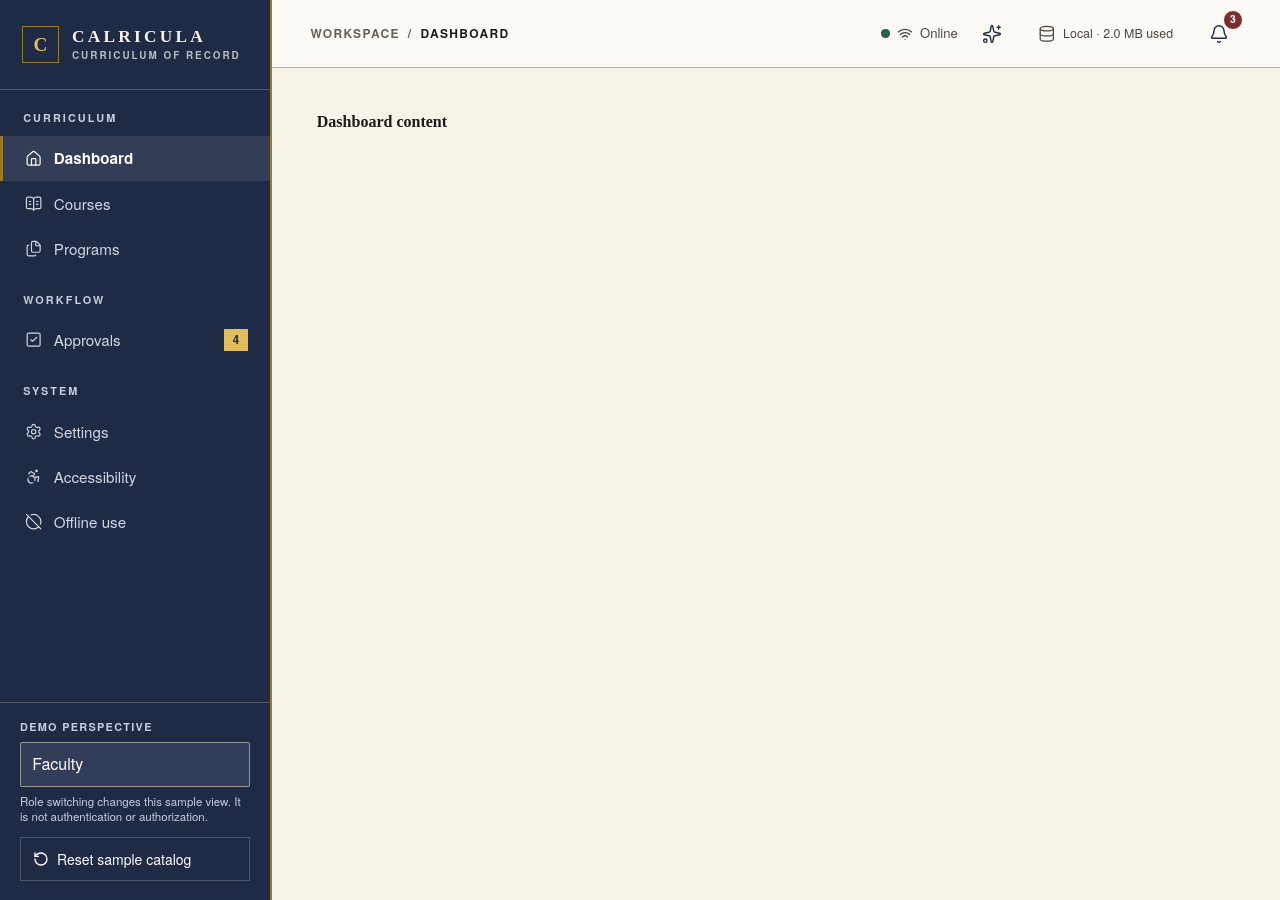
Test case: AppShell › keeps reset errors inside the active confirmation
Click the button "Reset sample catalog": [135, 859] box 20,837 -> 250,881
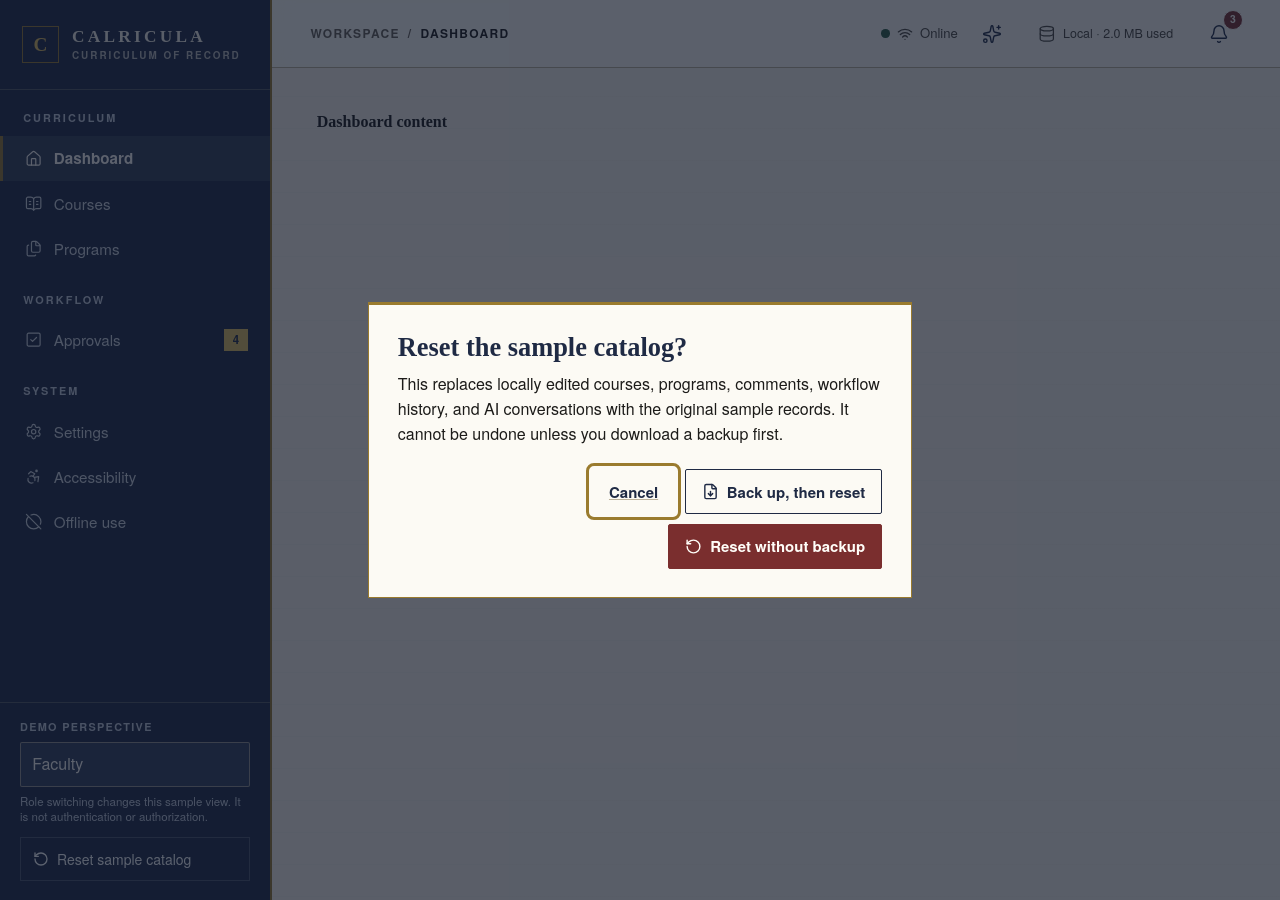
Click the button "Reset without backup": [775, 546] box 668,524 -> 882,569
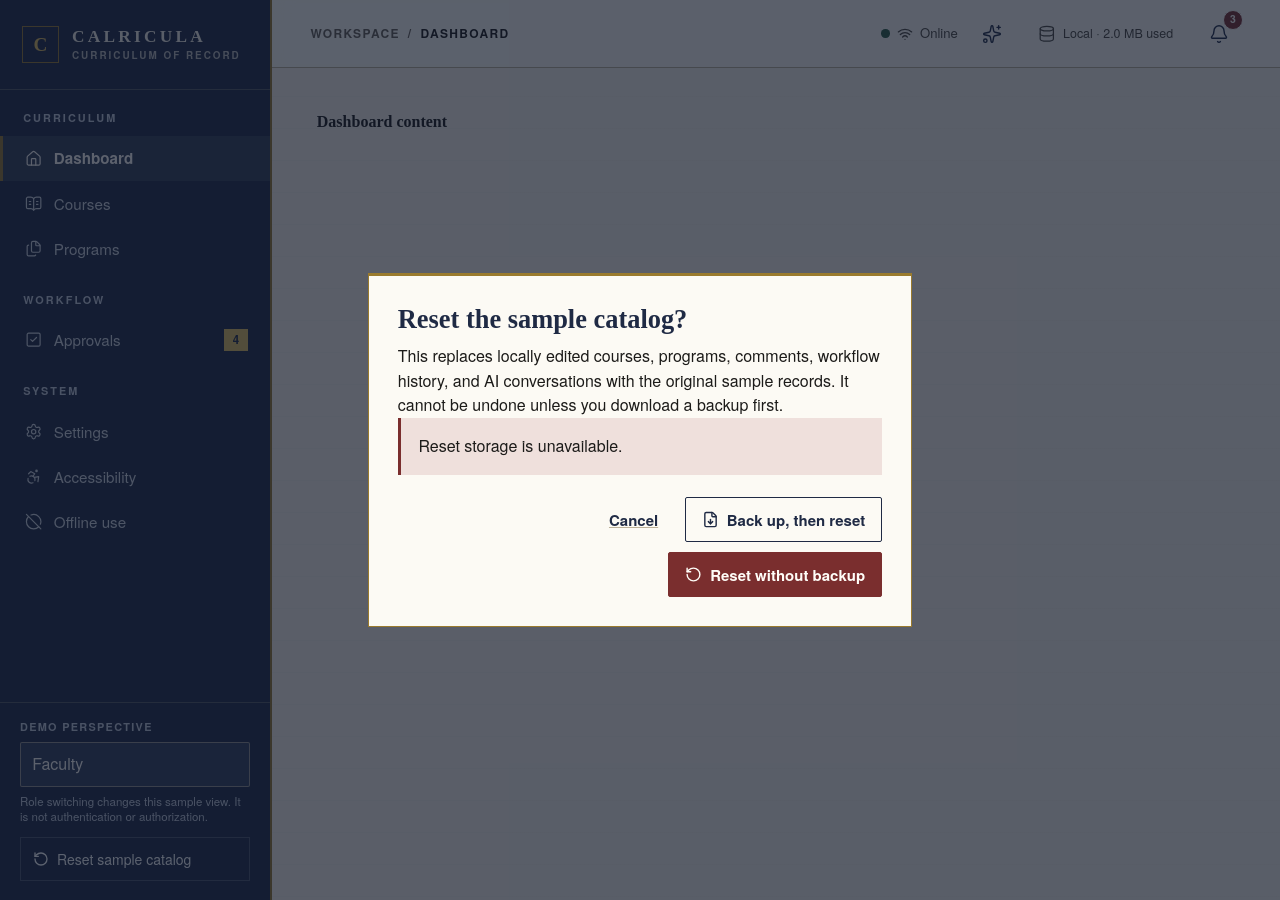
Result: the message reads "Reset storage is unavailable." at 418,434 -> 623,457
